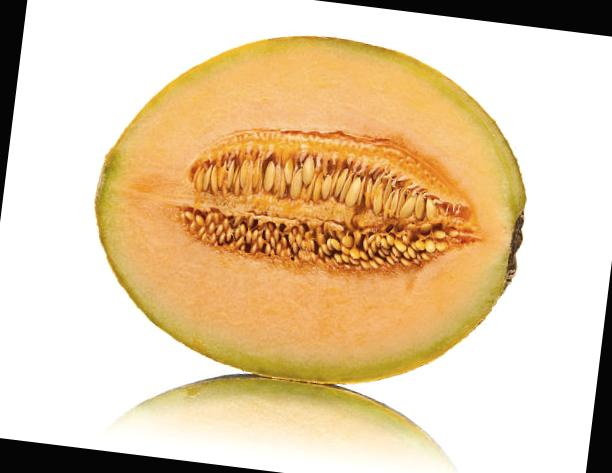Melon Ripe: (74, 8, 542, 404)
